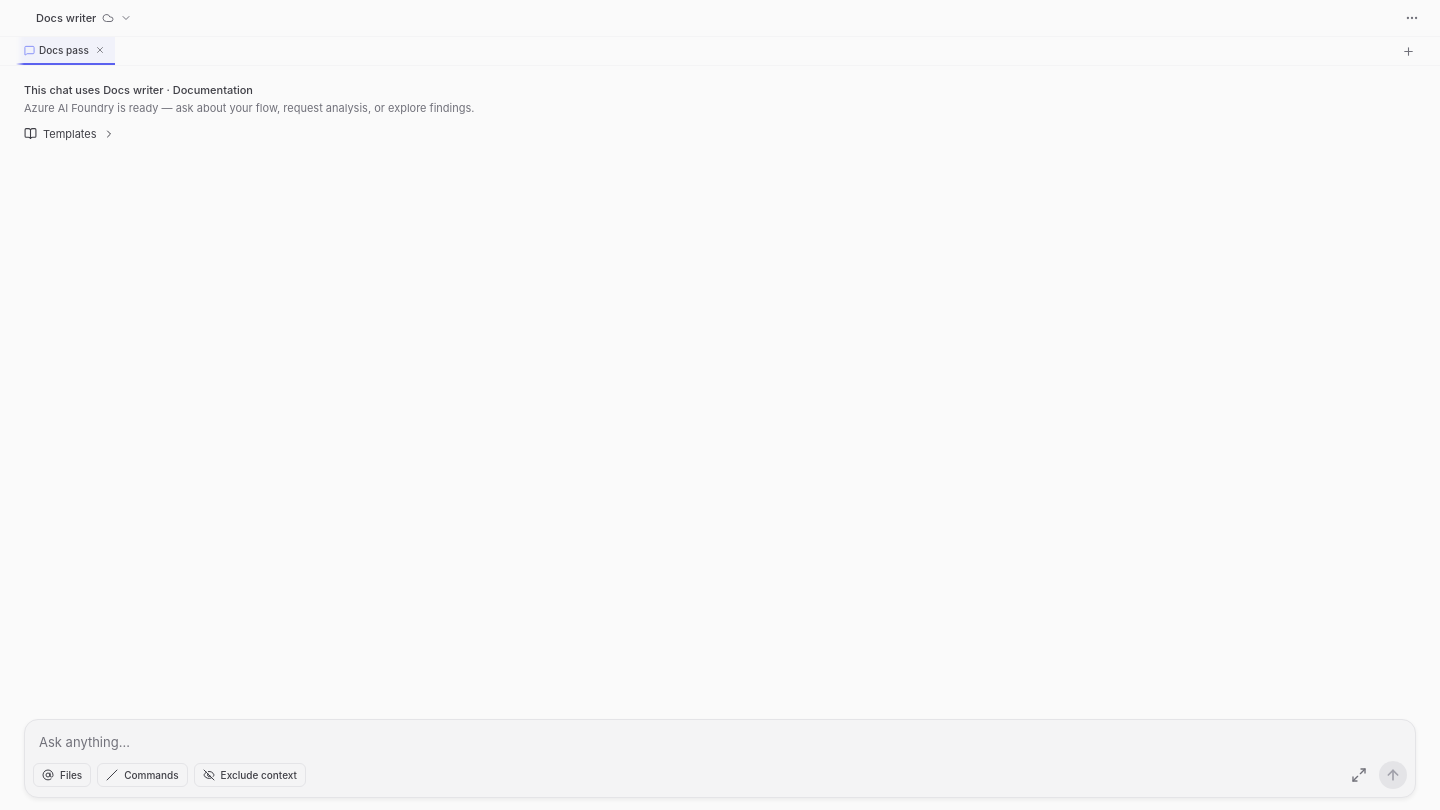
Test: AITab per-thread model: review fixes › a send refused for its model says so at once, and the notice shows even when the refetch fails
Step 1. Type "Document this flow" into the text box named "Message the assistant" → x=720, y=738, box [25, 720, 1415, 757]
Then press Enter
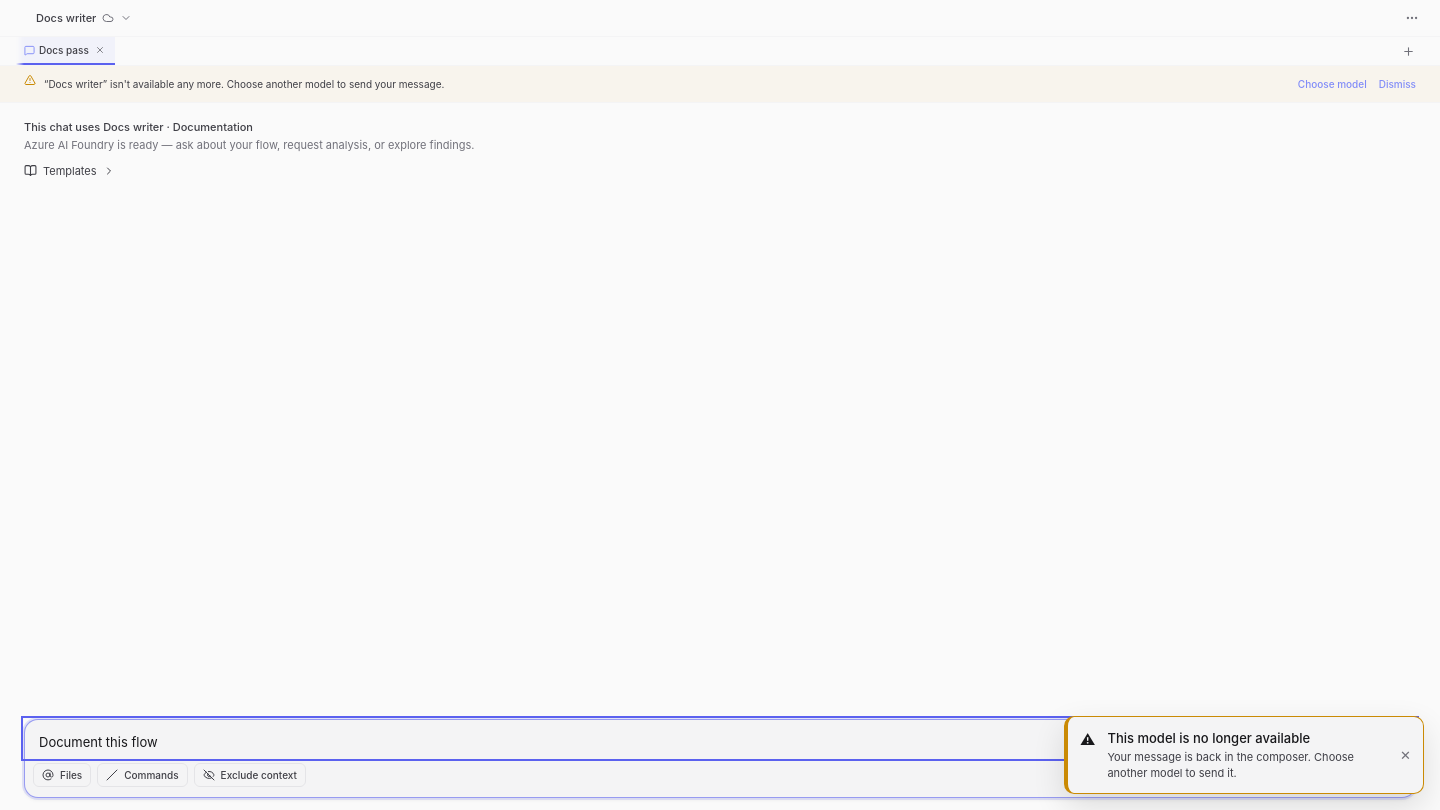
Now the text "This model is no longer available" is shown, box [1107, 730, 1310, 746]
Now the text "“Docs writer” isn't available any more. Choose another model to send your message." is shown, box [44, 78, 444, 90]
